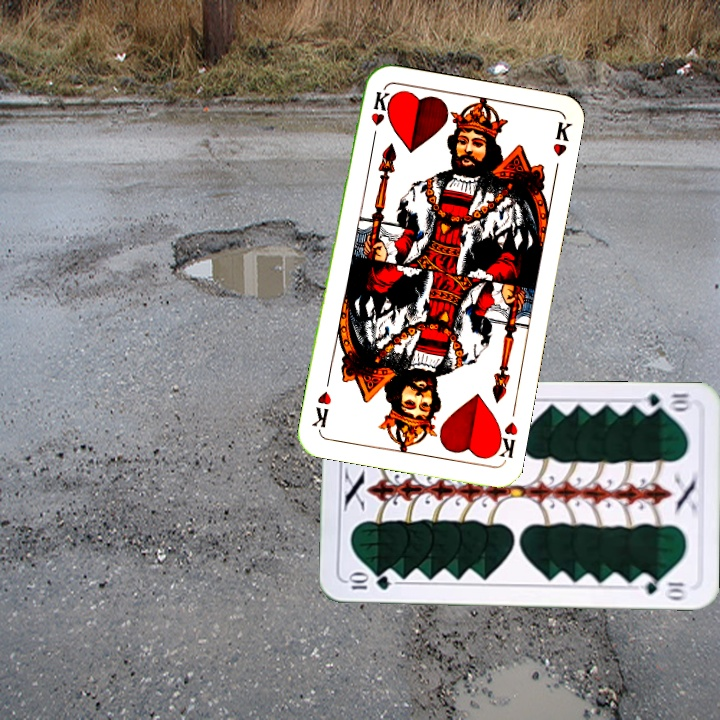G10: (635, 389, 694, 416), (344, 572, 394, 592)
HK: (367, 87, 392, 146), (489, 418, 520, 461)
